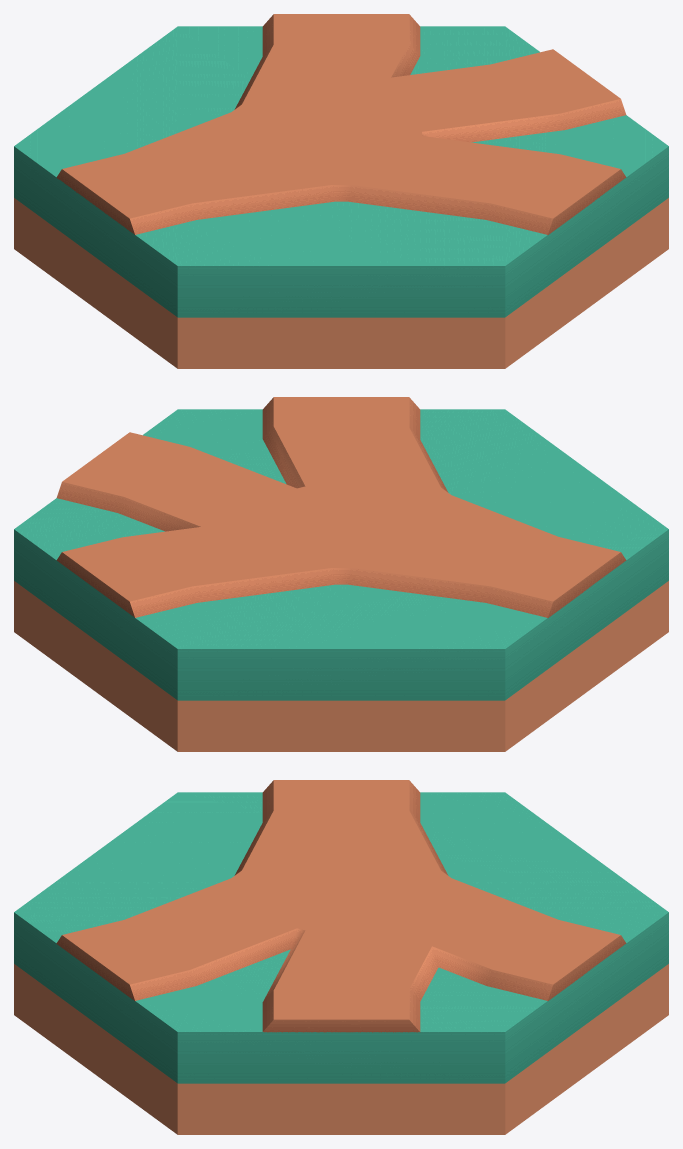
Rendered from grass-path-intersectionD.glb.
The picture shows the model from 3 angles, top to bottom: view 1: azimuth 30°, elevation 25°; view 2: azimuth 150°, elevation 25°; view 3: azimuth 270°, elevation 25°; orthographic projection.
Parts seen in each view (by area): view 1: grass, path-intersectionD; view 2: grass, path-intersectionD; view 3: grass, path-intersectionD.
Boxes of the visible parts, x1,y1,x2,y2 form: grass: (14, 26, 668, 368); path-intersectionD: (56, 14, 626, 234); grass: (14, 409, 668, 751); path-intersectionD: (56, 397, 626, 617); grass: (14, 792, 668, 1134); path-intersectionD: (56, 780, 626, 1032).
Bounding box in the file's own units: 1 × 0.224 × 1.15.
1 material, 1 textured.
